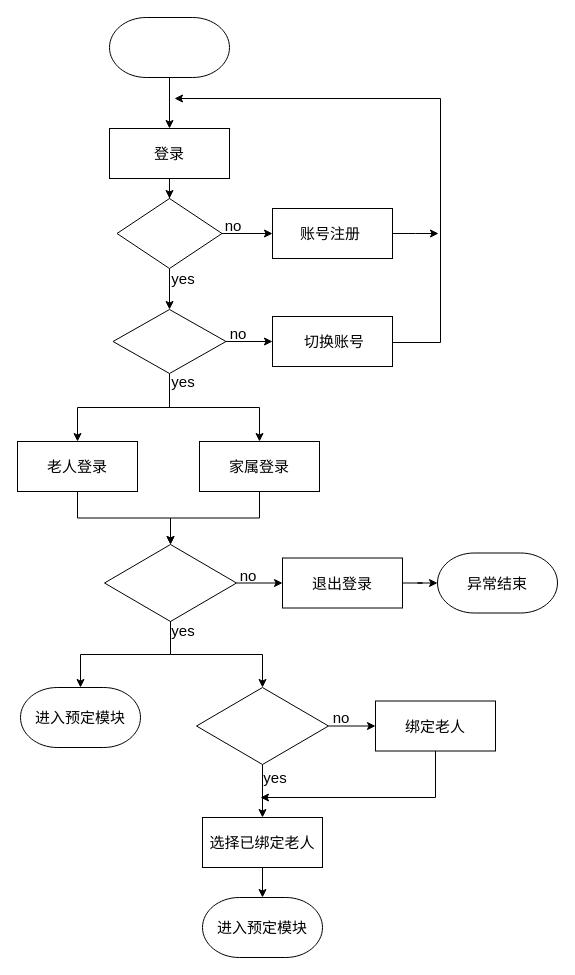
Some shapes in this 575 by 975 pixel diagram are drawn without their labels. The shapes that lost their labels are listed below. From the top down, each one's box as (x1, y1, x2, y2) in pixels, then its label:
(108, 16, 230, 78): 开始
(116, 198, 222, 268): 已存凭证
(112, 308, 226, 374): 老人/家属
(104, 544, 236, 622): 继续登录
(196, 686, 328, 764): 已绑定老人
